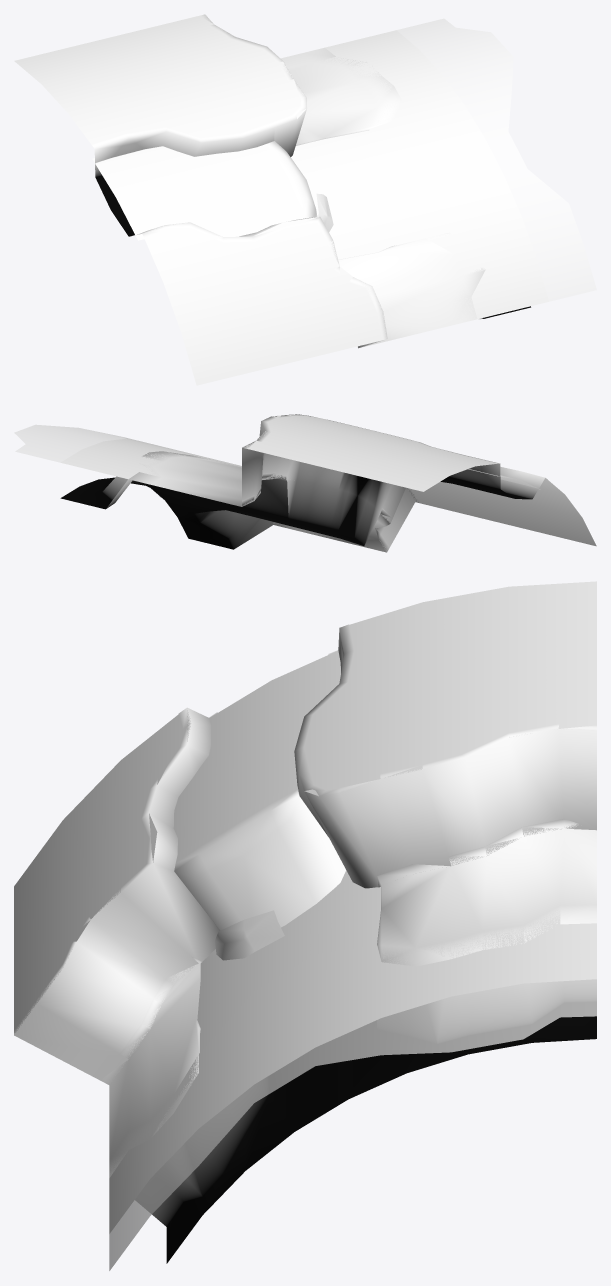
Rendered from grd_Me_R_0.dae.
3 renders of one model, top to bottom at view 1: azimuth 30°, elevation 25°; view 2: azimuth 150°, elevation 25°; view 3: azimuth 270°, elevation 25°, orthographic. The views are drawn at different scales.
Parts seen in each view (by area): view 1: grass_5_0, ocean_6_0, wave_9_0, river1_7_0, beach_2_0, cliff_4_0, river_edge_8_0, beach_3_0, fall_0_0; view 2: grass_5_0, cliff_4_0, beach_3_0, wave_9_0, beach_2_0, ocean_6_0; view 3: grass_5_0, cliff_4_0, ocean_6_0, beach_3_0, wave_9_0, beach_2_0, fall_0_0, river1_7_0, river_edge_8_0, kemuri_mae_1_0.
Boxes of the visible parts, box(x1,y1,x2,y2) form: grass_5_0: box(14, 15, 385, 385); ocean_6_0: box(291, 30, 548, 319); wave_9_0: box(325, 18, 596, 324); river1_7_0: box(93, 147, 302, 240); beach_2_0: box(280, 53, 461, 347); cliff_4_0: box(92, 14, 387, 348); river_edge_8_0: box(92, 130, 424, 259); beach_3_0: box(301, 47, 530, 324); fall_0_0: box(258, 141, 317, 218); grass_5_0: box(243, 414, 596, 546); cliff_4_0: box(242, 414, 547, 551); beach_3_0: box(60, 451, 363, 549); wave_9_0: box(14, 424, 294, 529); beach_2_0: box(151, 456, 392, 552); ocean_6_0: box(61, 439, 241, 479); grass_5_0: box(14, 581, 596, 1032); cliff_4_0: box(14, 624, 596, 1081); ocean_6_0: box(109, 871, 596, 1233); beach_3_0: box(109, 904, 596, 1263); wave_9_0: box(109, 923, 596, 1270); beach_2_0: box(100, 819, 596, 1159); fall_0_0: box(174, 783, 345, 930); river1_7_0: box(173, 651, 340, 853); river_edge_8_0: box(175, 650, 380, 1052); kemuri_mae_1_0: box(215, 910, 284, 960).
Size of the model in its own units: 608 by 308 by 423.
10 materials, 1 textured.
